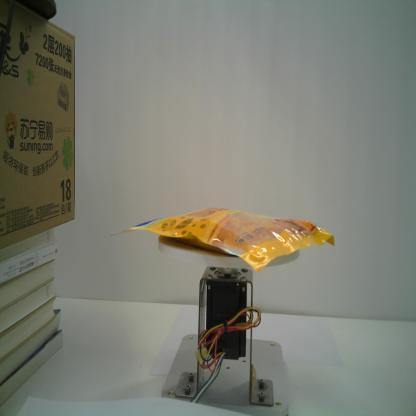Dried Fruit: (108, 206, 336, 273)
